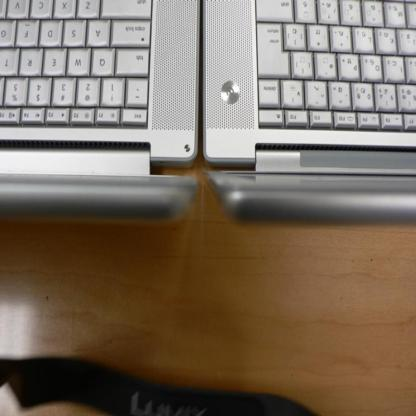board: (202, 0, 416, 228), (0, 0, 200, 222)
